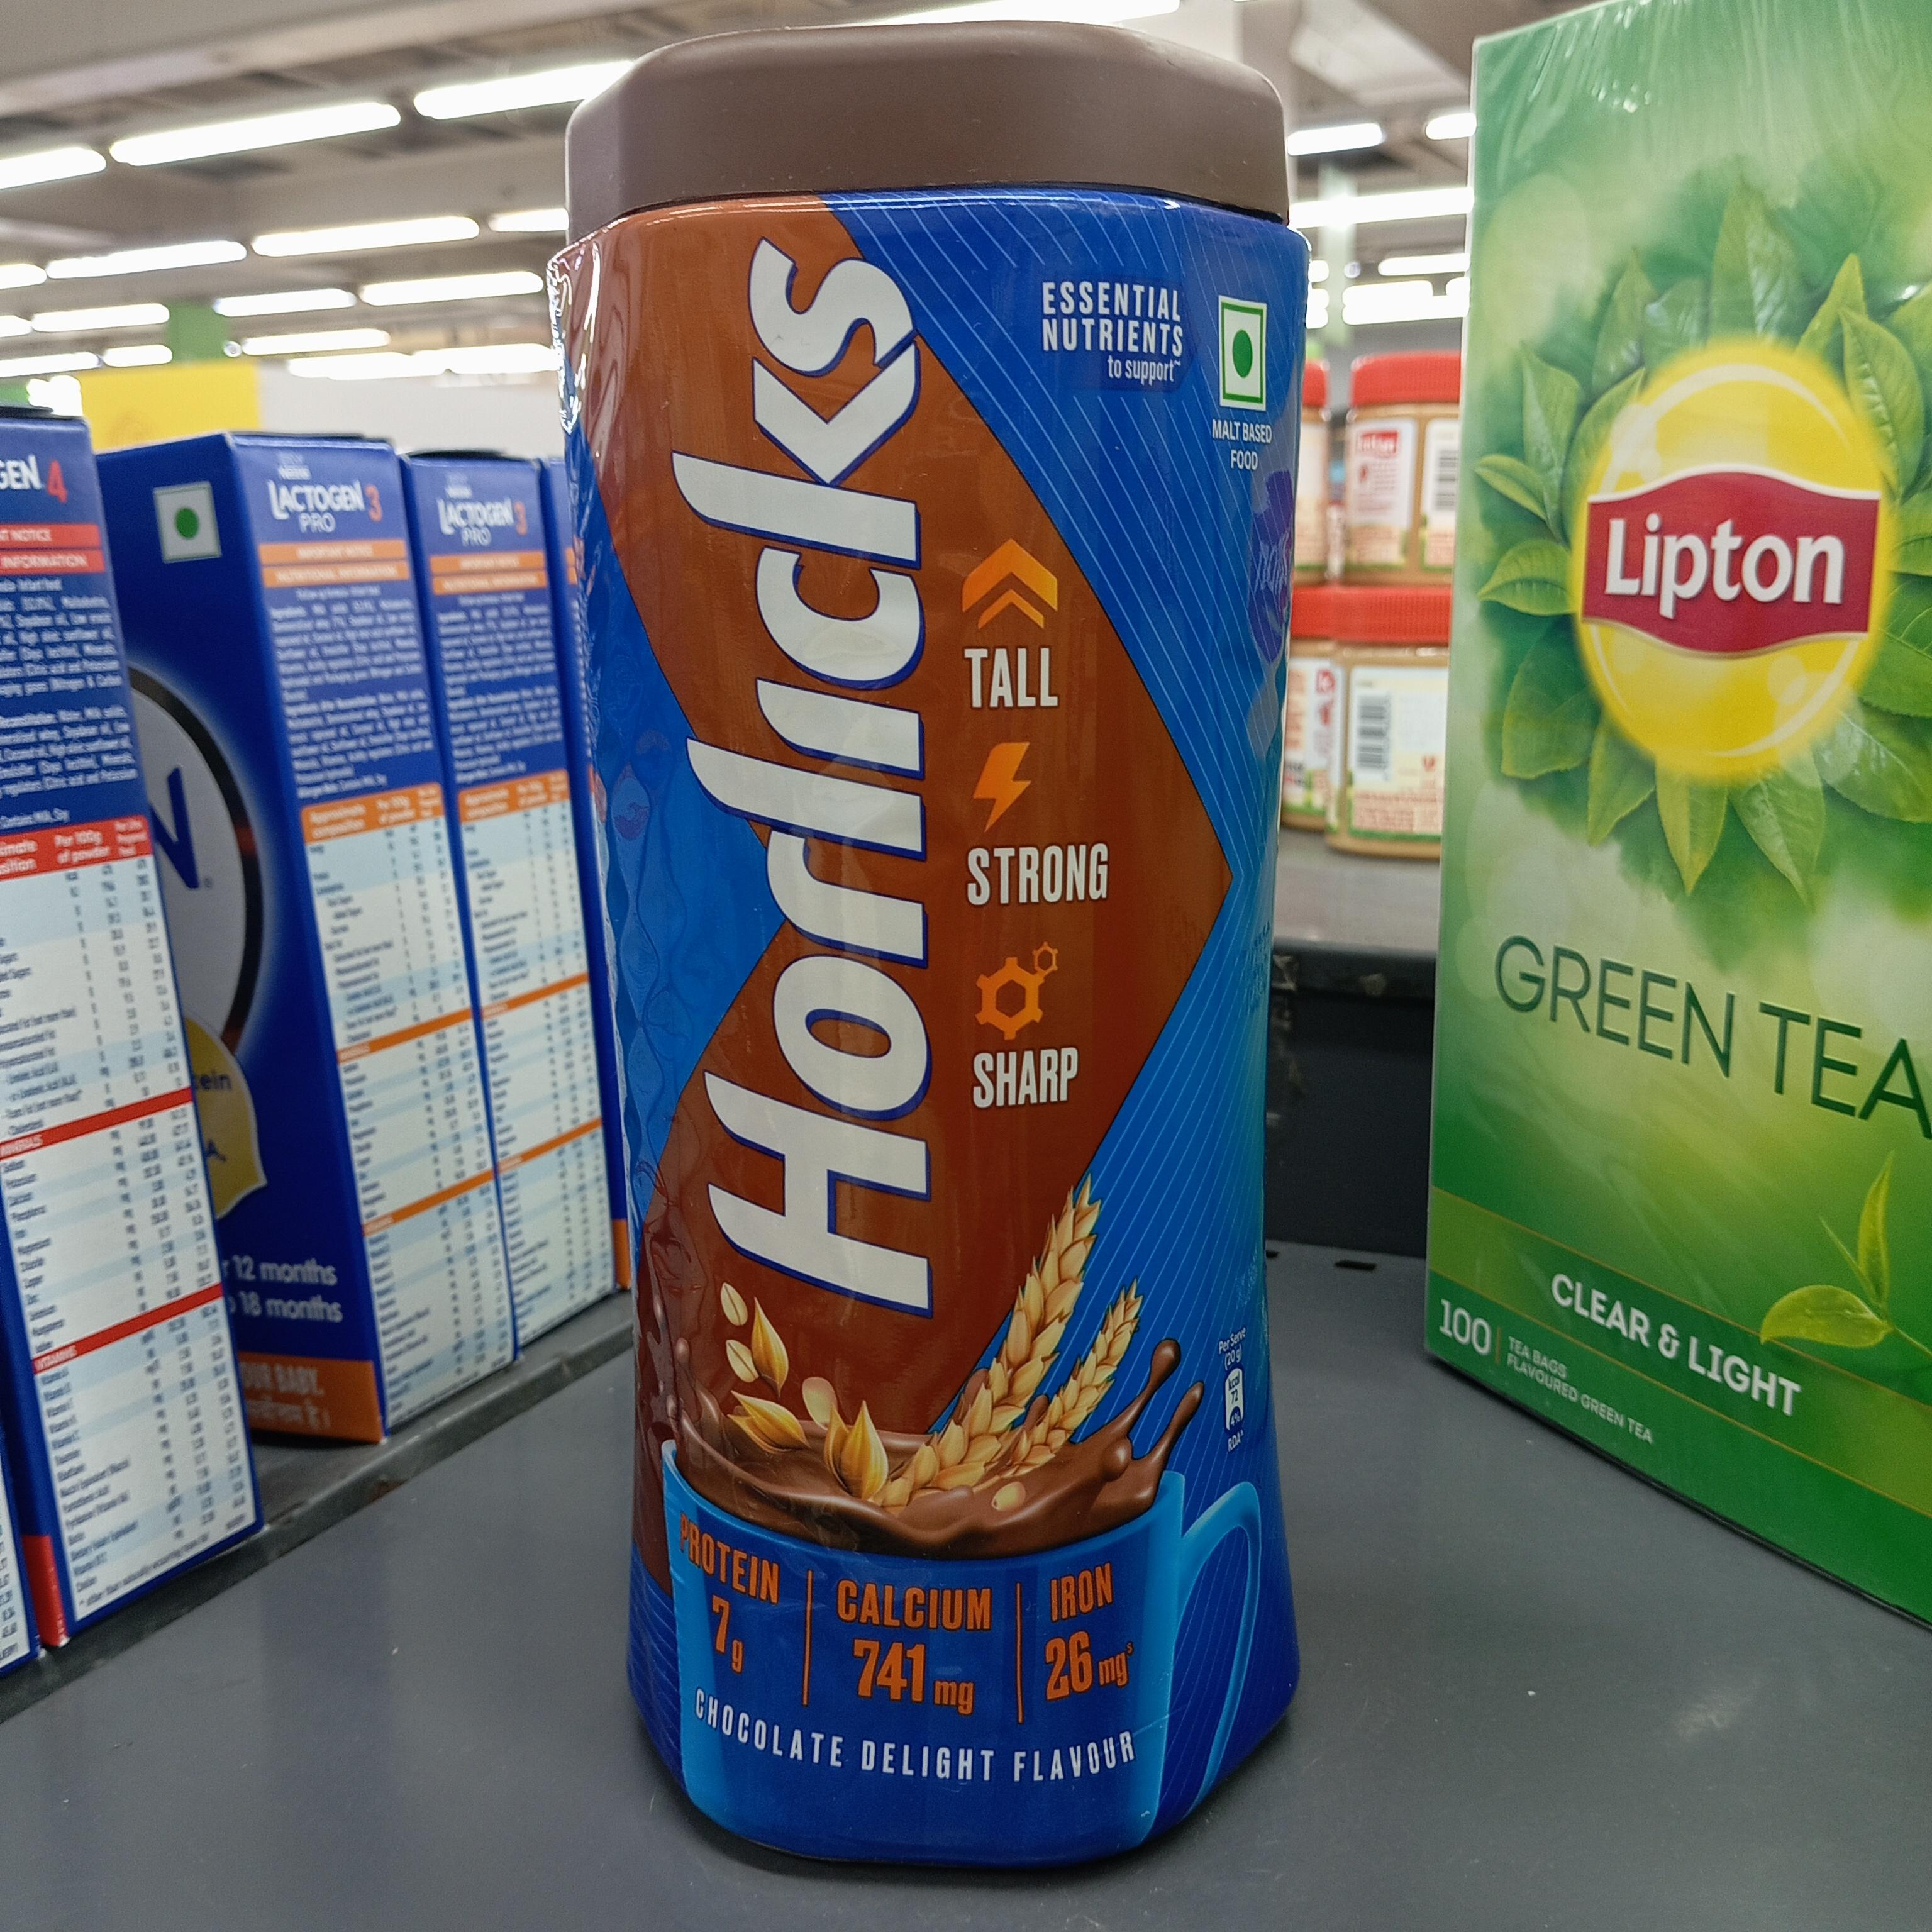HORLICK_CHOCOLATE_1_KG_JAR: (554, 25, 1304, 1893)
